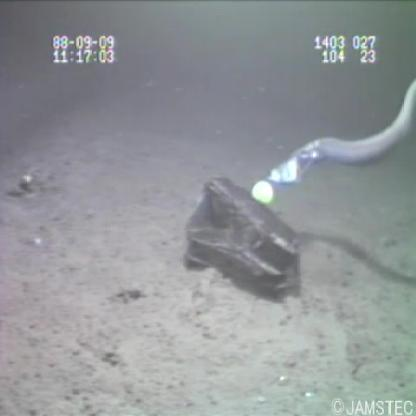Bio: (267, 74, 416, 185)
Rác: (181, 171, 304, 305)
